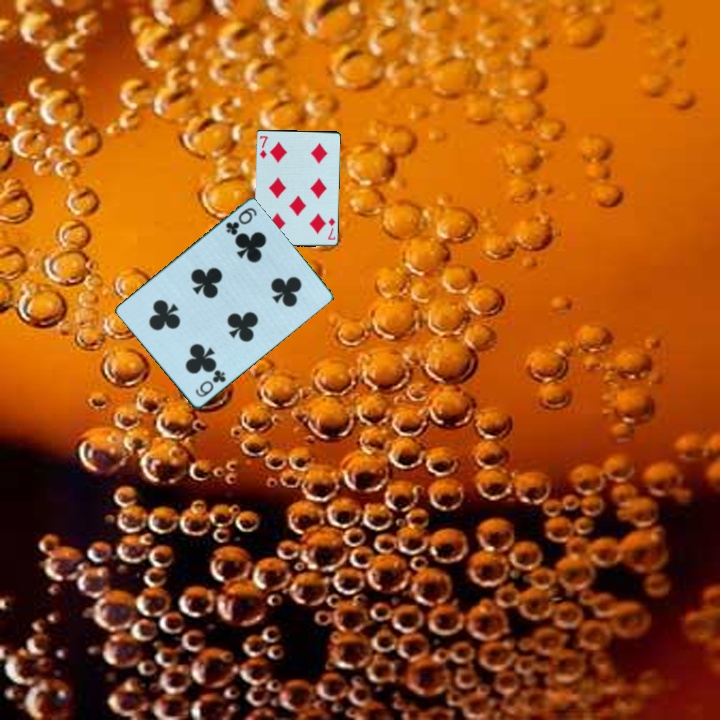6c: (222, 204, 260, 238), (192, 367, 229, 400)
7d: (256, 133, 271, 161), (324, 214, 338, 243)
